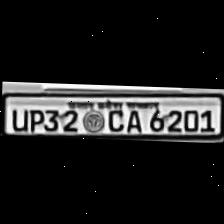0: (180, 106, 198, 131)
1: (196, 105, 216, 132)
2: (56, 105, 77, 132), (162, 106, 182, 132)
3: (40, 105, 58, 131)
6: (144, 104, 164, 131)
A: (124, 100, 144, 132)
C: (103, 98, 123, 132)
P: (24, 105, 42, 131)
U: (5, 105, 26, 132)
